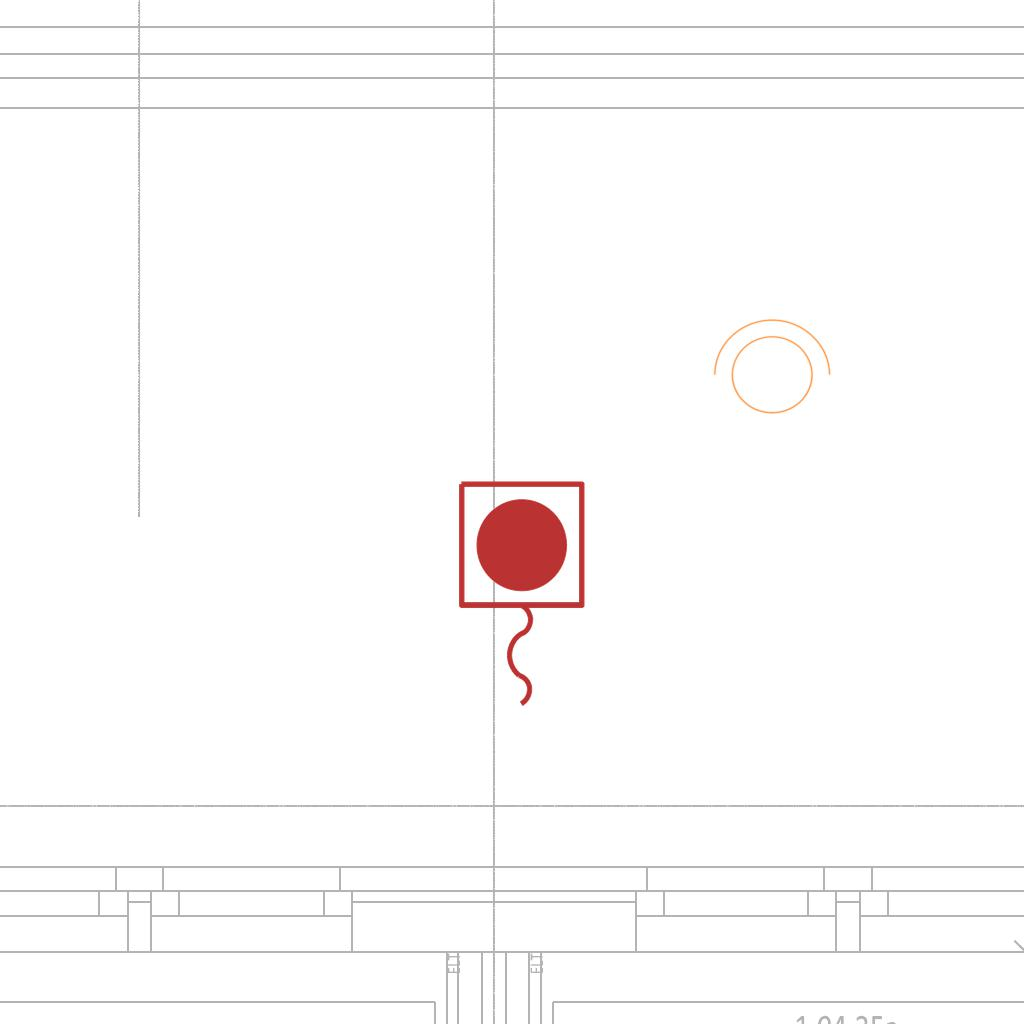Scheinwerfer_fuer_Alarmbeleuchtung: (703, 314, 835, 426)
Zugtaster: (448, 473, 592, 717)
